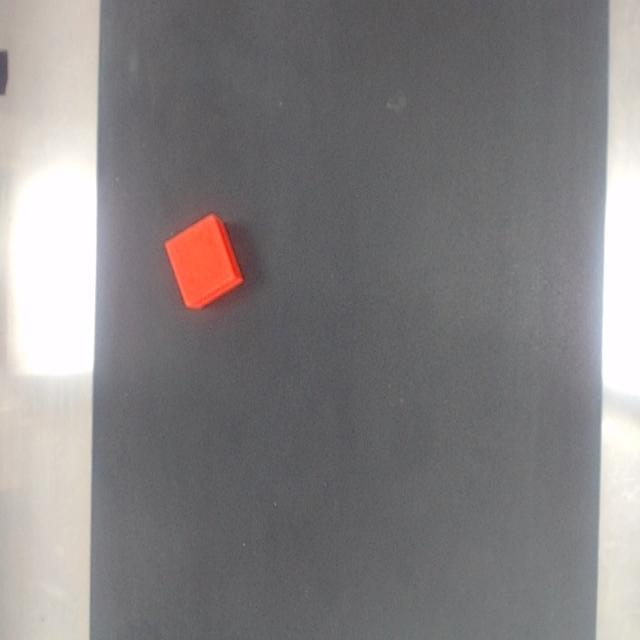Rojo: (164, 213, 243, 309)
